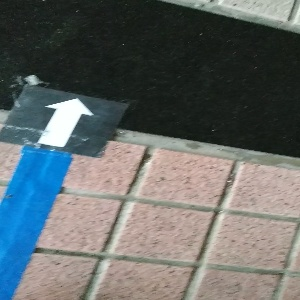straight: (0, 84, 128, 159)
